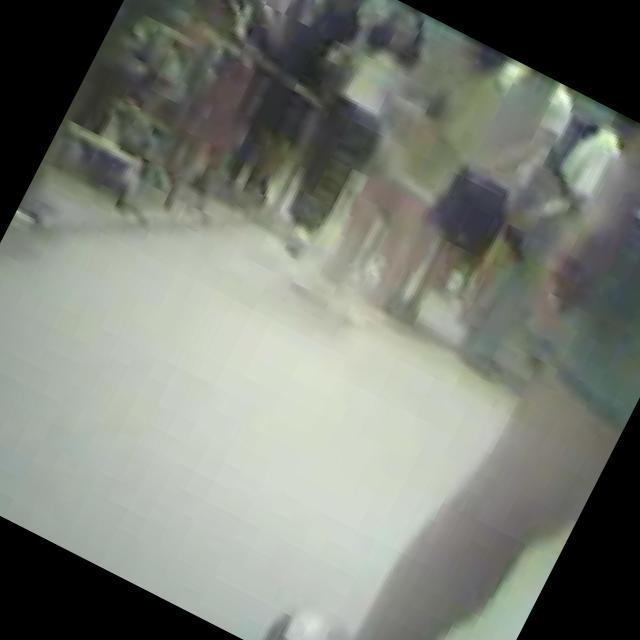person: (259, 77, 640, 640), (294, 22, 516, 332), (385, 58, 587, 344), (454, 96, 640, 387), (251, 0, 447, 257), (128, 0, 318, 173), (218, 0, 374, 204)
